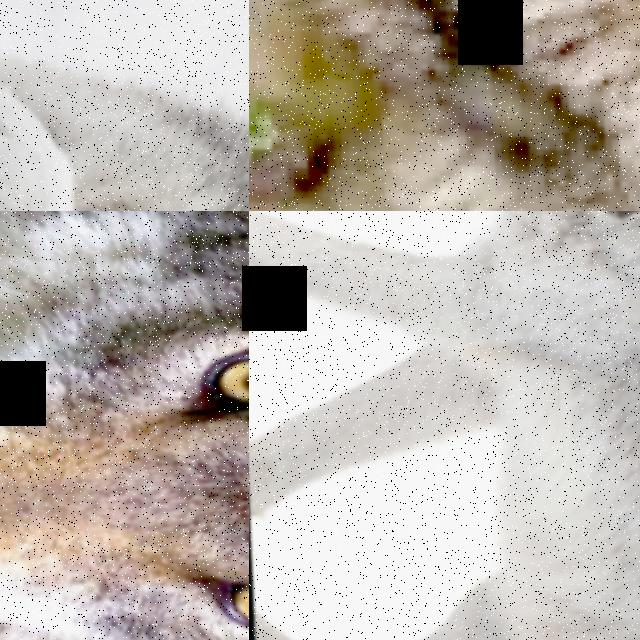wolf: (249, 211, 640, 640), (0, 211, 249, 640), (249, 0, 640, 211), (0, 0, 249, 211), (0, 9, 249, 211)
